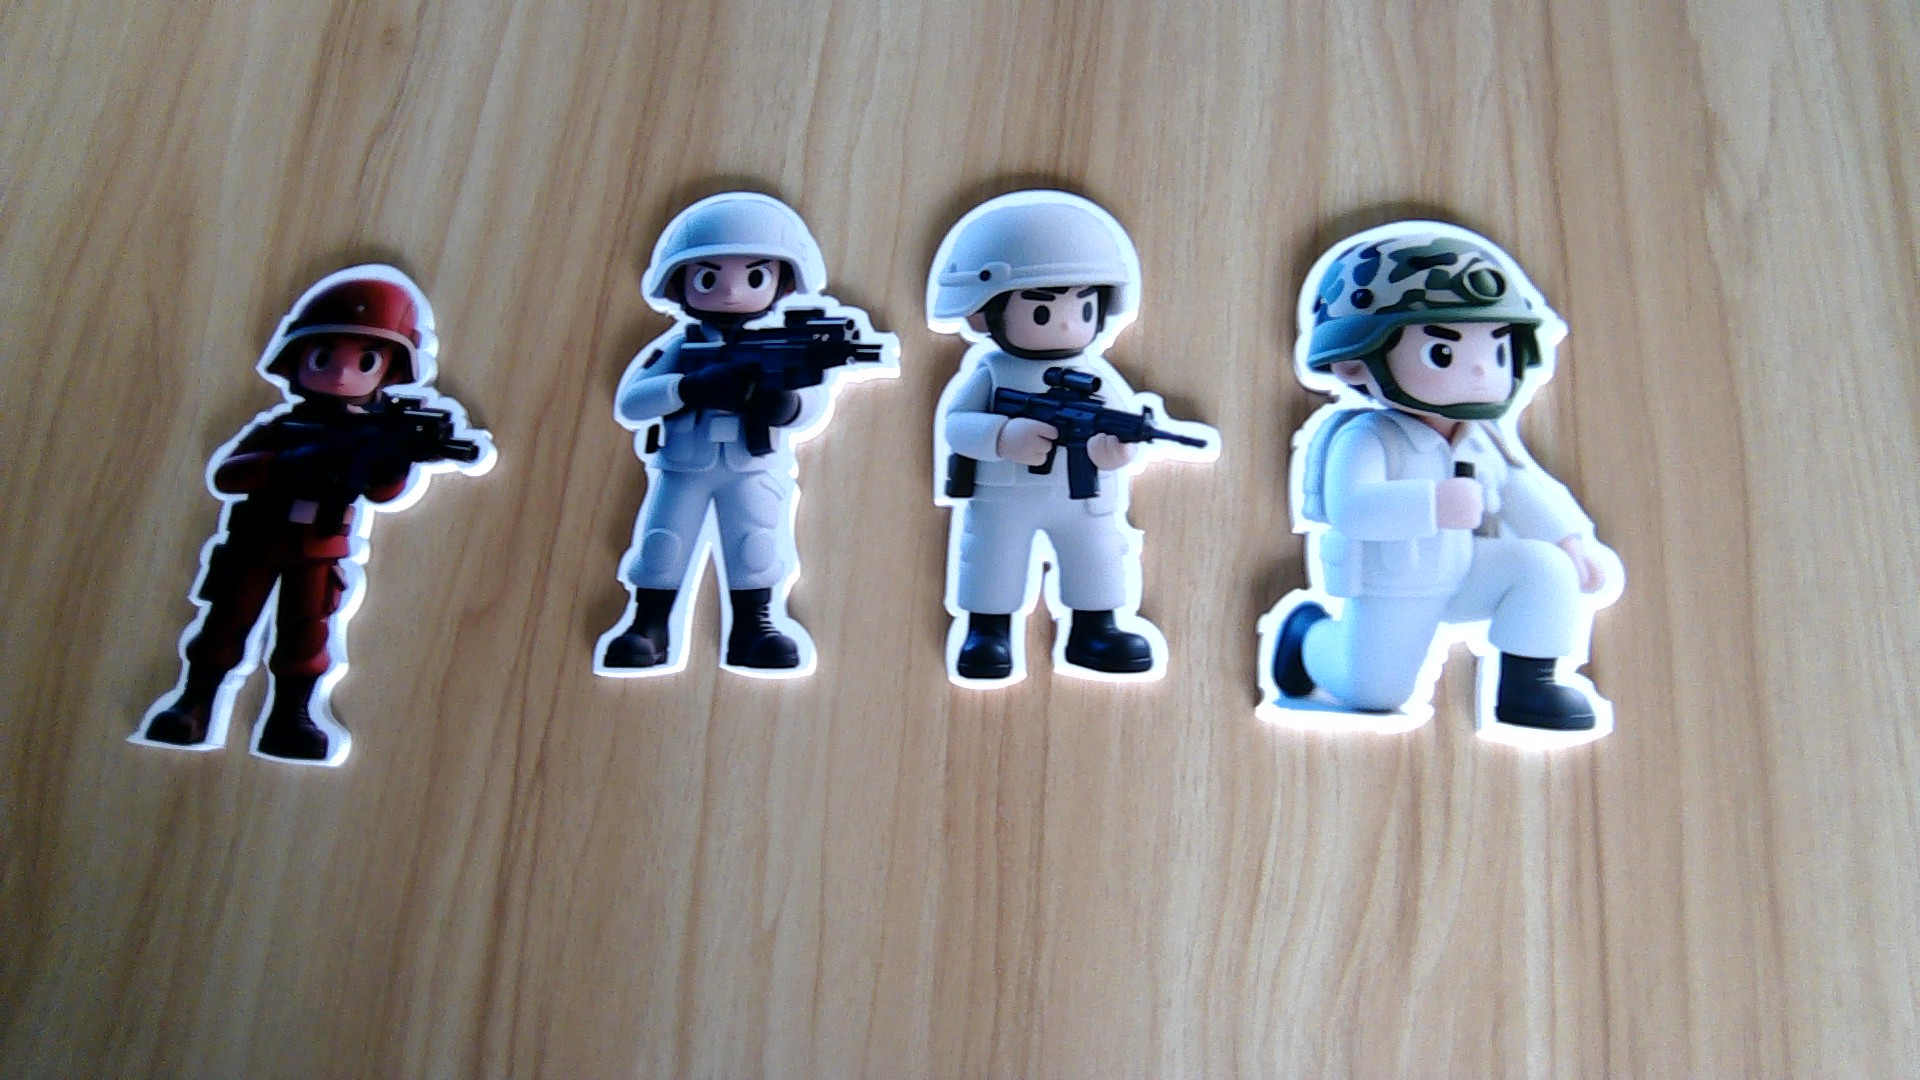人质: (1250, 406, 1629, 764), (585, 318, 901, 680), (928, 360, 1220, 694)
敌人1: (113, 400, 484, 765)
